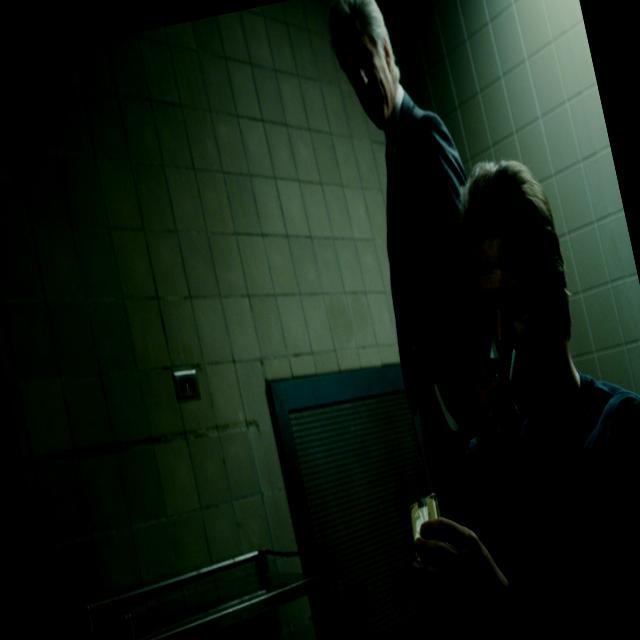smoke: (492, 318, 536, 405)
